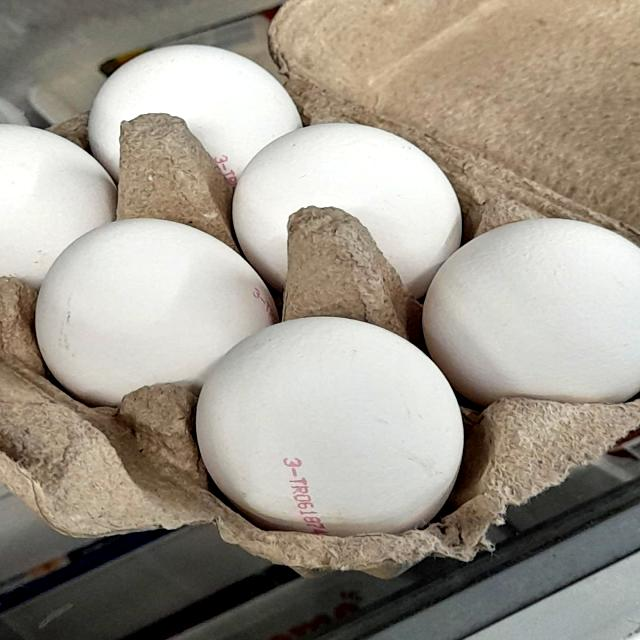egg: (175, 314, 472, 541), (28, 220, 280, 418), (229, 115, 468, 312), (78, 37, 306, 198)
